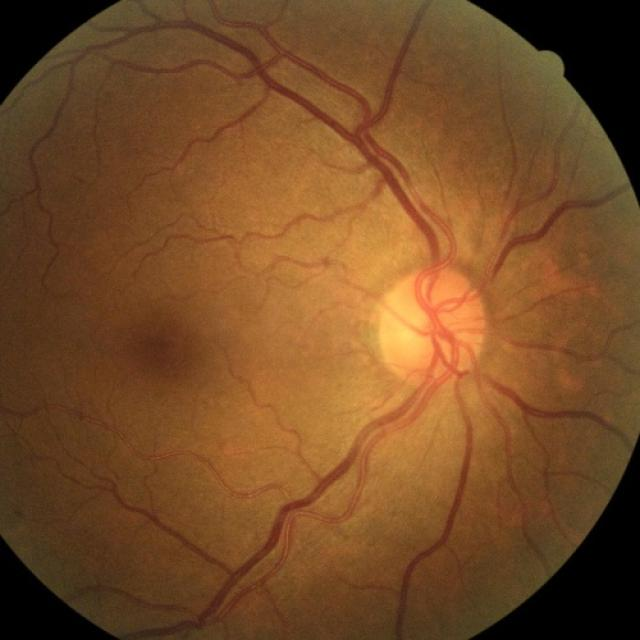OC: (398, 311, 432, 345)
OD: (377, 270, 487, 386)
